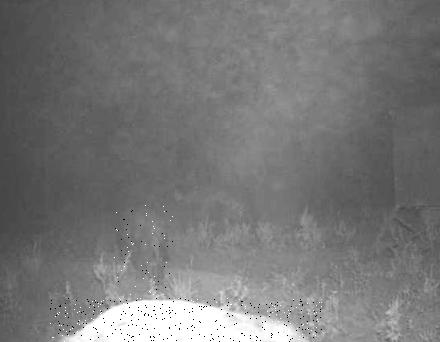Hog: (50, 298, 322, 342), (114, 205, 174, 296)
